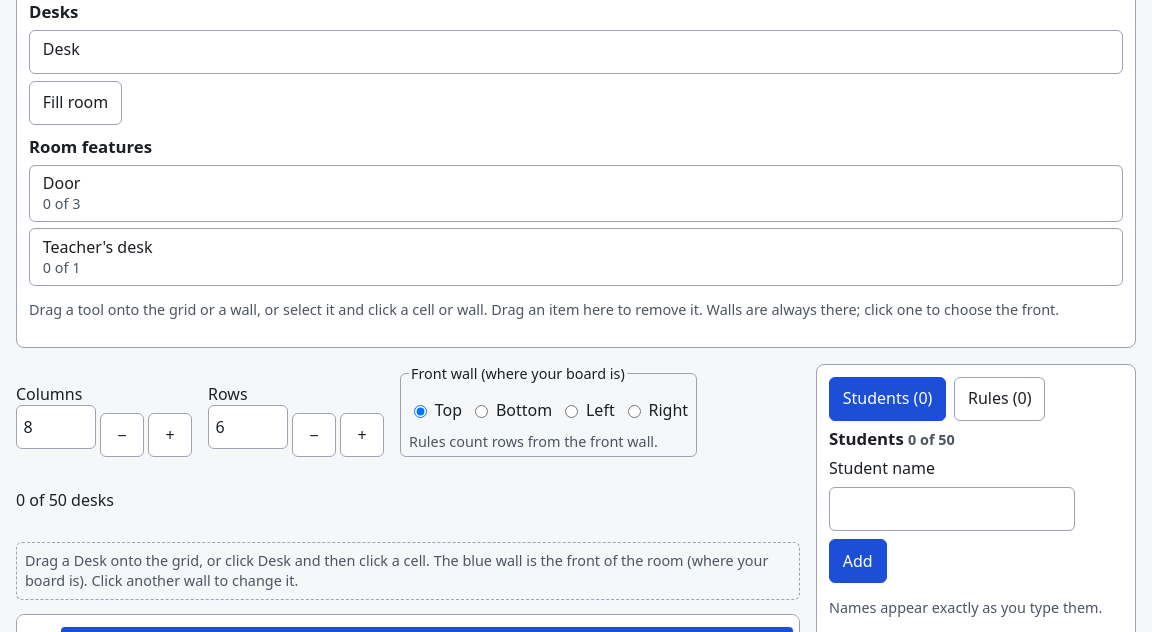
Plan mode › changes the front wall from the radio group and relabels every band
Click the radio button labelled "Left".
click(572, 411)  # box [565, 405, 578, 418]
(page scrolled)
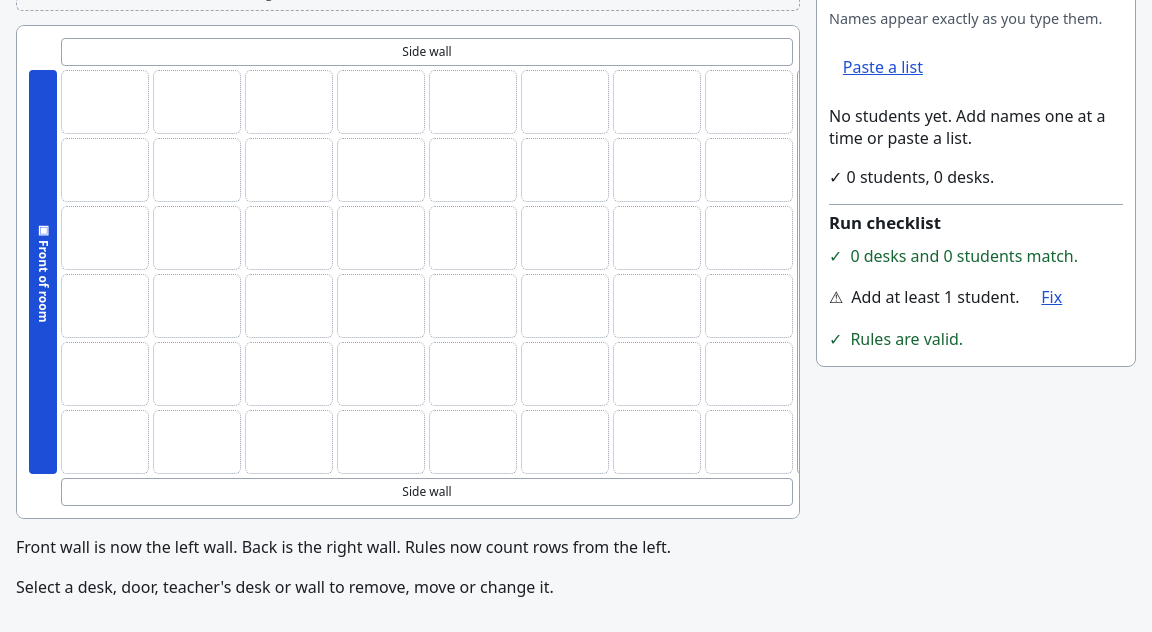
Check: the cell named "Left wall, left of row 1, Front of room" is shown, box [29, 70, 57, 134]
Check: the cell named "Top wall, above column 1, Side wall" is shown, box [61, 38, 149, 66]
Check: the text "Front wall is now the left wall. Back is the right wall. Rules now count rows from the left." is shown, box [16, 536, 671, 558]
